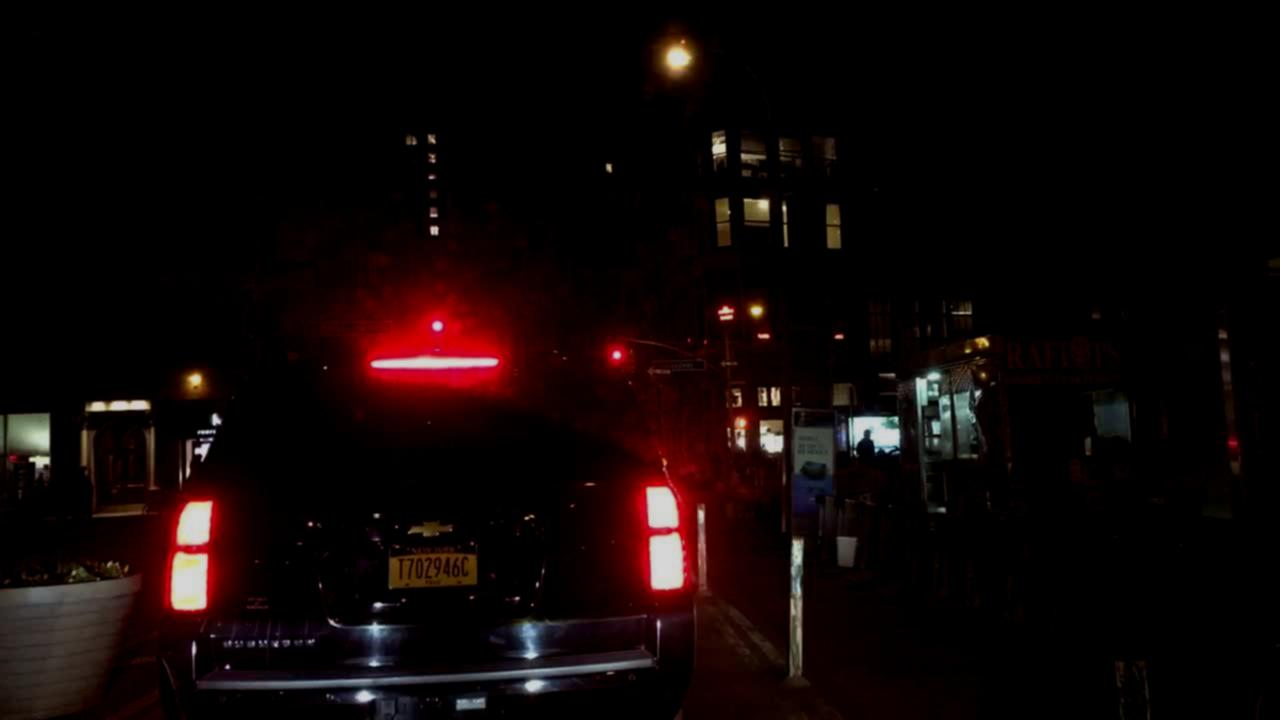chevrolet: (392, 513, 478, 544)
